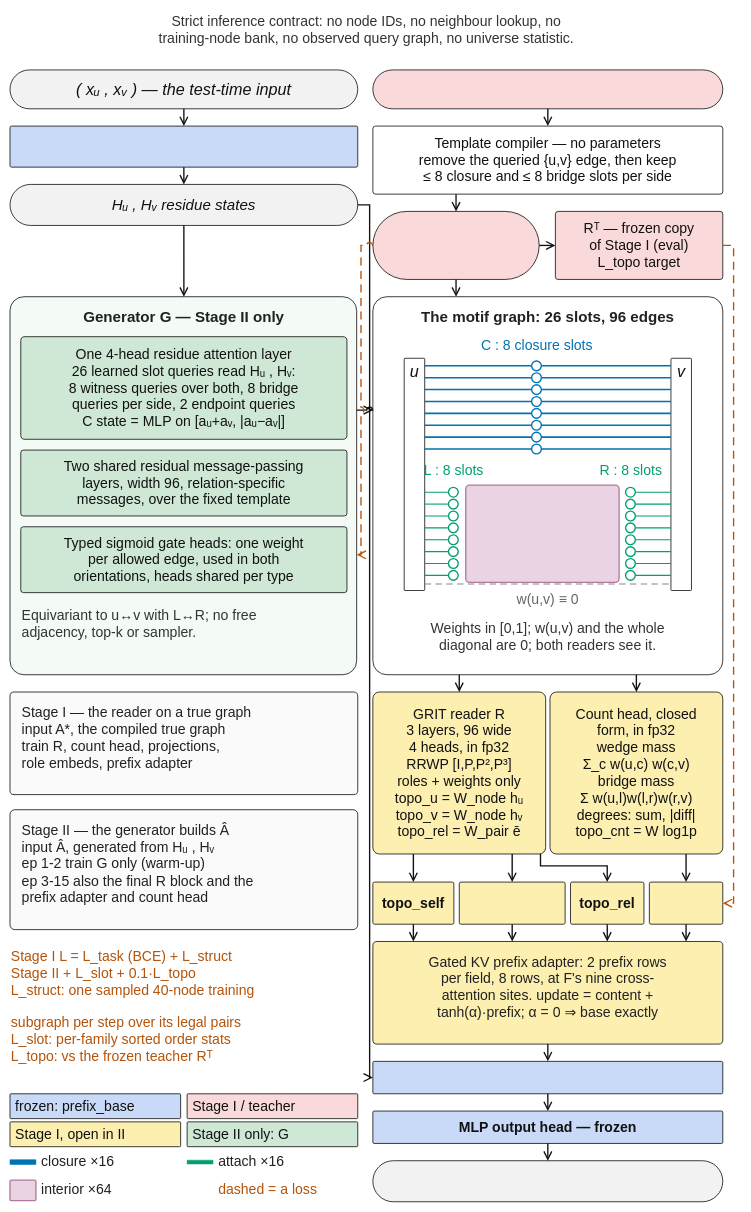
This 751x1212 diagram has some shape labels left out. Here are the shapes that lost their labels. From the top down, the box of each, then its label:
(372, 69, 723, 109): Legal training graph (Stage I only)
(9, 125, 358, 167): Frozen residue encoder (prefix_base)
(372, 211, 539, 280): A* — the compiled motif graph L_slot target
(465, 484, 620, 583): interior family every l – r pair 8 × 8 = 64 edges
(459, 881, 565, 924): topo_partner
(649, 881, 723, 924): topo_cnt
(372, 1061, 723, 1094): Pair reader F (prefix_base), frozen
(372, 1160, 723, 1202): p̂ᵤᵥ = p̂ᵥᵤ = P( edge(u,v) | xᵤ , xᵥ )
